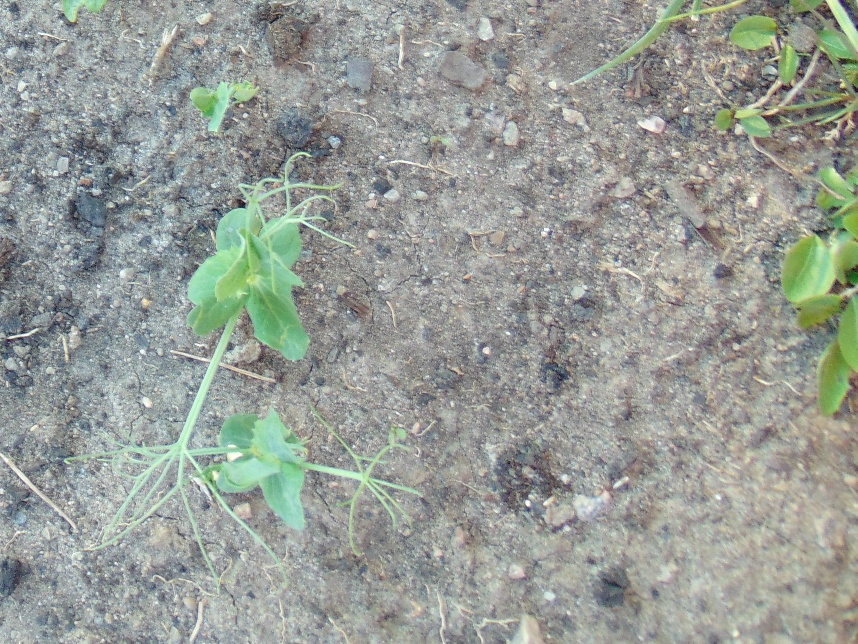crop: (129, 177, 394, 544), (189, 77, 265, 135)
weed: (775, 164, 858, 431), (710, 1, 858, 140), (56, 1, 101, 22)
